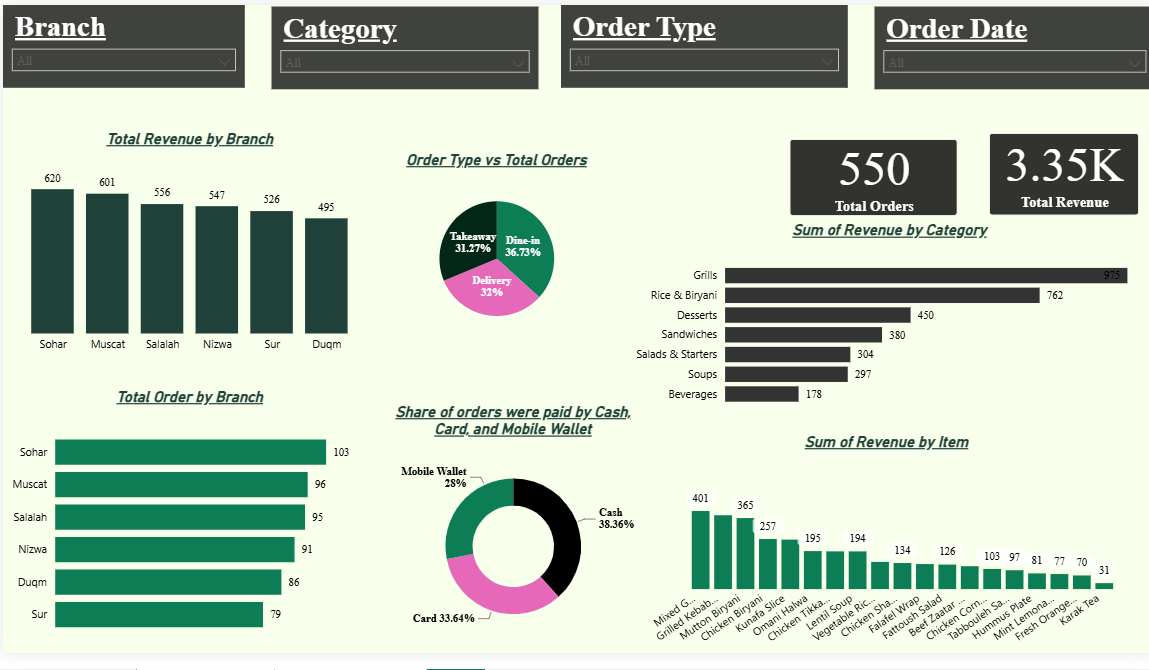

This screenshot's page, from the dashboard's own definition file:
{"tool":"powerbi","page":{"name":"1 -11 Q&A","canvas":[1280,720],"ordinal":0},"visuals":[{"type":"cardVisual","fields":{"Data":["Sum(Cleaned Table.Revenue)"]},"box":[1078.3,125,201.7,126.7],"z":0},{"type":"cardVisual","fields":{"Data":["CountNonNull(Cleaned Table.Order ID)"]},"box":[856.7,131.7,221.7,120],"z":1000},{"type":"columnChart","title":"Total Revenue by Branch","fields":{"Y":["Sum(Cleaned Table.Revenue)"],"Category":["Cleaned Table.Branch"]},"box":[1.7,138.3,411.7,256.7],"z":2000},{"type":"barChart","title":"Total Order by Branch","fields":{"Category":["Cleaned Table.Branch"],"Y":["CountNonNull(Cleaned Table.Order ID)"]},"box":[1.7,425,411.7,286.7],"z":3000},{"type":"barChart","fields":{"Category":["Cleaned Table.Category"],"Y":["Sum(Cleaned Table.Revenue)"]},"box":[690,240,590,215],"z":4000},{"type":"donutChart","title":"Share of orders were paid by Cash, Card, and Mobile Wallet","fields":{"Category":["Cleaned Table.Payment Method"],"Y":["Divide(CountNonNull(Cleaned Table.Order ID), ScopedEval(CountNonNull(Cleaned Table.Order ID), []))"]},"box":[423.3,441.7,286.7,270],"z":5000},{"type":"pieChart","title":"Order Type vs Total Orders","fields":{"Category":["Cleaned Table.Order Type"],"Y":["Count(Cleaned Table.Order ID)"]},"box":[406.7,161.7,283.3,210],"z":6000},{"type":"lineClusteredColumnComboChart","fields":{"Category":["Cleaned Table.Item"],"Y":["Sum(Cleaned Table.Revenue)"]},"box":[715,475,533.3,245],"z":7000},{"type":"slicer","fields":{"Values":["Cleaned Table.Branch"]},"box":[0,0,268.3,91.7],"z":7001},{"type":"slicer","fields":{"Values":["Cleaned Table.Category"]},"box":[298.3,1.7,296.7,91.7],"z":7002},{"type":"slicer","fields":{"Values":["Cleaned Table.Order Type"]},"box":[620,0,318.3,91.7],"z":7003},{"type":"slicer","fields":{"Values":["Cleaned Table.Order Date"]},"box":[968.3,1.7,311.7,91.7],"z":7004}]}

Visuals, with their boxes on the page's 1280x720 design canvas (x1, y1, x2, y2). These are canvas units, not pixel positions in the 1149x670 screenshot, which may show the page scaled, cropped or inside an application window:
cardVisual - Sum(Cleaned Table.Revenue): l=1078, t=125, r=1280, b=252
cardVisual - CountNonNull(Cleaned Table.Order ID): l=857, t=132, r=1078, b=252
"Total Revenue by Branch" columnChart: l=2, t=138, r=413, b=395
"Total Order by Branch" barChart: l=2, t=425, r=413, b=712
barChart - Cleaned Table.Category x Sum(Cleaned Table.Revenue): l=690, t=240, r=1280, b=455
"Share of orders were paid by Cash, Card, and Mobile Wallet" donutChart: l=423, t=442, r=710, b=712
"Order Type vs Total Orders" pieChart: l=407, t=162, r=690, b=372
lineClusteredColumnComboChart - Cleaned Table.Item x Sum(Cleaned Table.Revenue): l=715, t=475, r=1248, b=720
slicer - Cleaned Table.Branch: l=0, t=0, r=268, b=92
slicer - Cleaned Table.Category: l=298, t=2, r=595, b=93
slicer - Cleaned Table.Order Type: l=620, t=0, r=938, b=92
slicer - Cleaned Table.Order Date: l=968, t=2, r=1280, b=93
